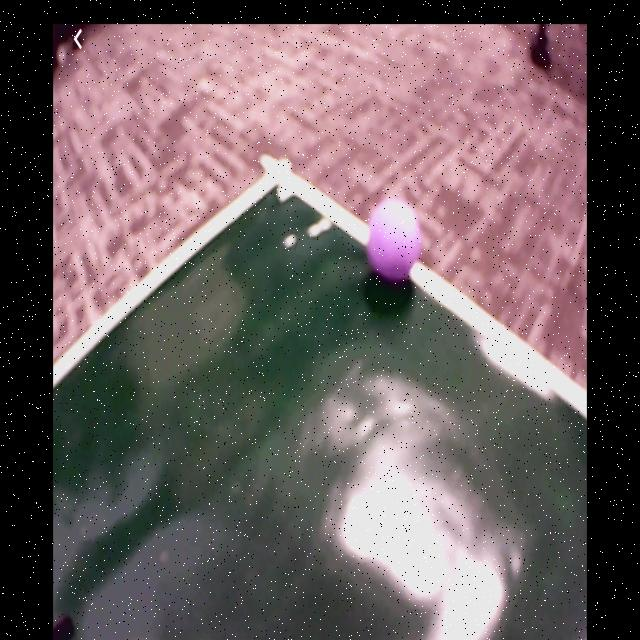ball: (369, 201, 420, 284)
